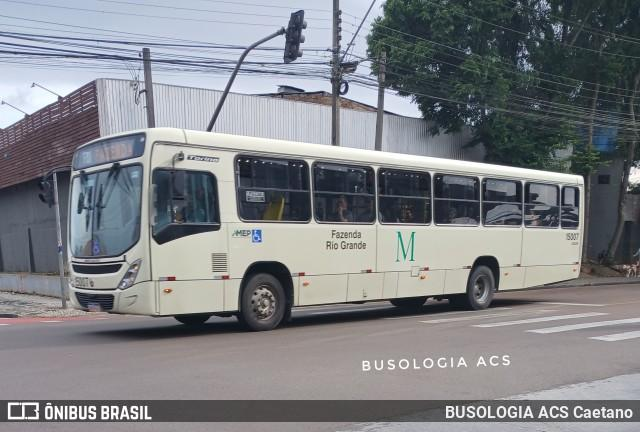FAZENDA: (89, 138, 137, 168)
